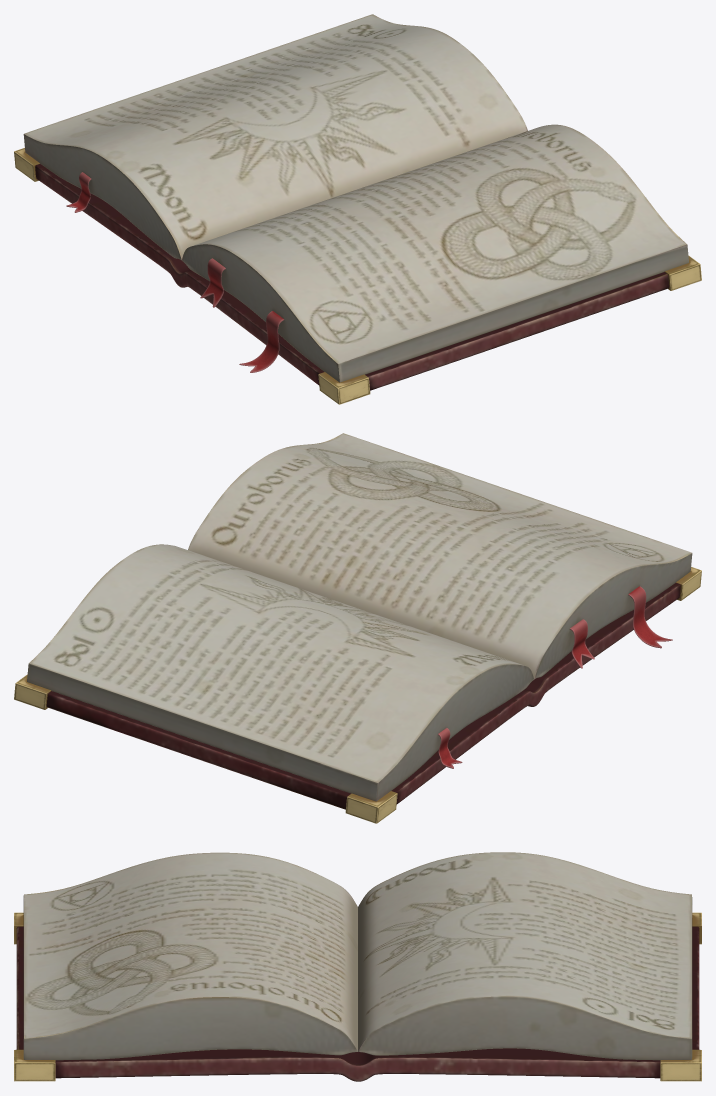
Rendered from book_of_alchemy.opt.glb.
The picture shows the model from 3 angles, top to bottom: view 1: azimuth 30°, elevation 25°; view 2: azimuth 150°, elevation 25°; view 3: azimuth 270°, elevation 25°; orthographic projection. The views are drawn at different scales.
Visible parts, largest first — view 1: Pages, Book_cover, Cover_corner, BookMark1.002, BookMark1; view 2: Pages, Book_cover, Cover_corner, BookMark1.002, BookMark1; view 3: Pages, Book_cover, Cover_corner.
Part boxes in pixels (x1,y1,x2,y2): Pages: (23,14,688,382); Book_cover: (35,164,669,390); Cover_corner: (14,147,701,404); BookMark1.002: (239,311,284,372); BookMark1: (200,258,225,307); Pages: (27,433,692,801); Book_cover: (46,583,680,809); Cover_corner: (14,567,701,823); BookMark1.002: (628,586,672,648); BookMark1: (569,619,594,668); Pages: (23,852,692,1060); Book_cover: (16,926,699,1081); Cover_corner: (14,912,701,1081).
Bounding box in the file's own units: 1.78 × 0.4882 × 2.54.
1 material, 1 textured.
